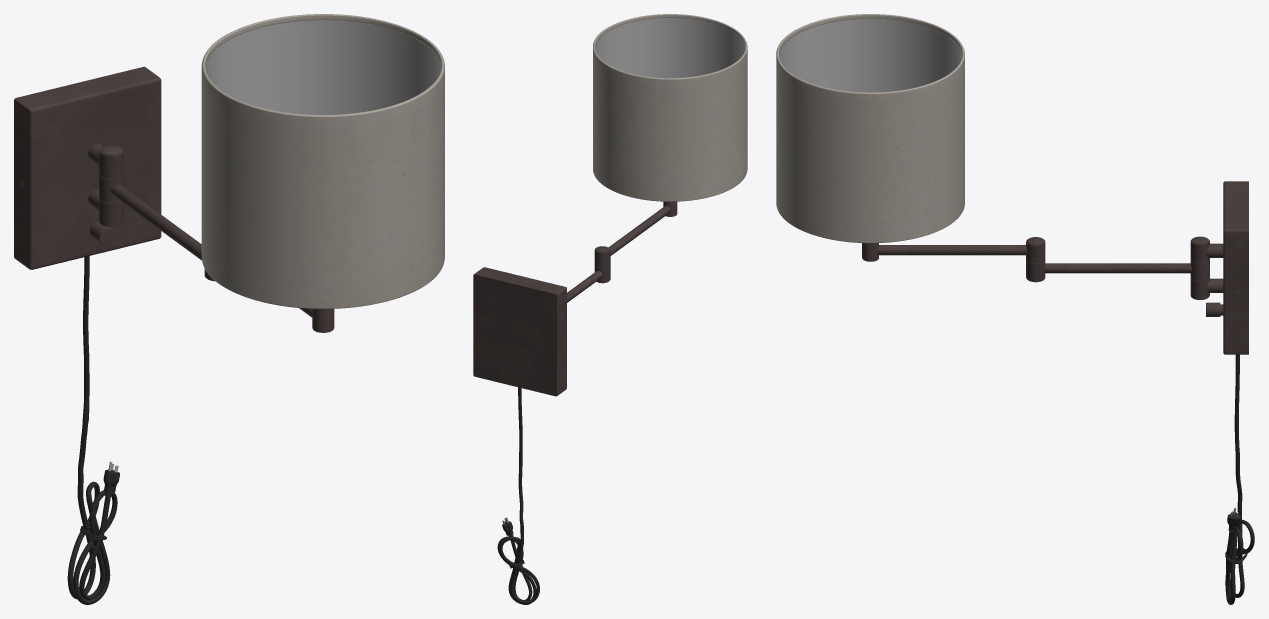
The model's file is abo-B0828DRFTG.glb.
3 views of the same model, side by side, from view 1: azimuth 30°, elevation 25°; view 2: azimuth 150°, elevation 25°; view 3: azimuth 270°, elevation 25° (orthographic). The views are drawn at different scales.
Size of the model in its own units: 0.203 by 0.652 by 0.514.
1 material, 1 textured.
